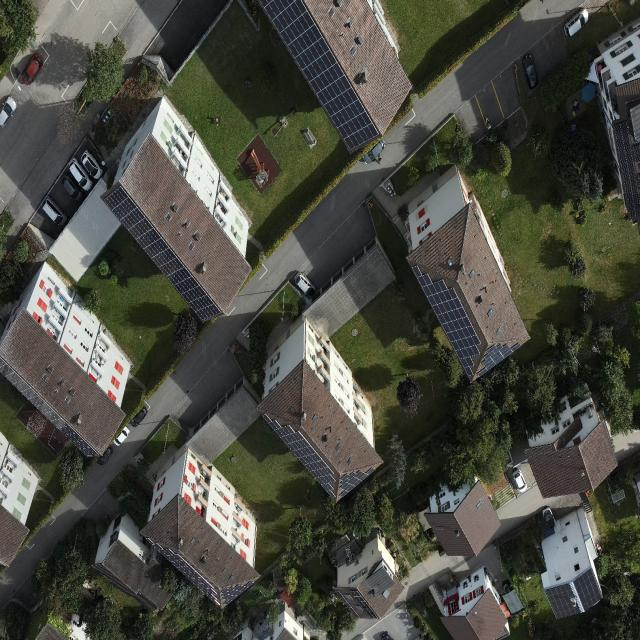panneaux_solaires: (257, 0, 375, 150), (103, 184, 217, 319), (0, 352, 91, 458), (412, 261, 479, 378), (262, 416, 337, 496), (146, 538, 220, 606), (613, 120, 640, 222), (573, 566, 604, 614), (544, 583, 579, 618), (341, 588, 378, 618), (220, 580, 254, 606)
